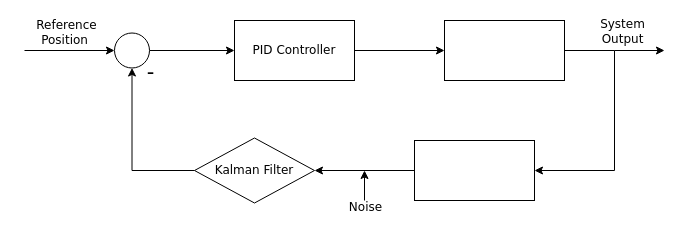
This 690x231 diagram has some shape labels left out. Here are the shapes that lost their labels. From the top down, the box of each, then its label:
(444, 20, 564, 80): Servo motor
(414, 140, 534, 200): ToF Sensor
